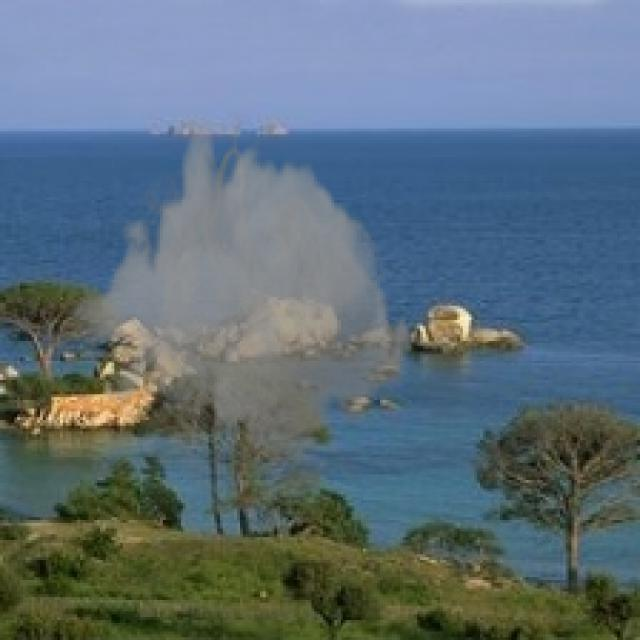smoke: (69, 112, 414, 494)
